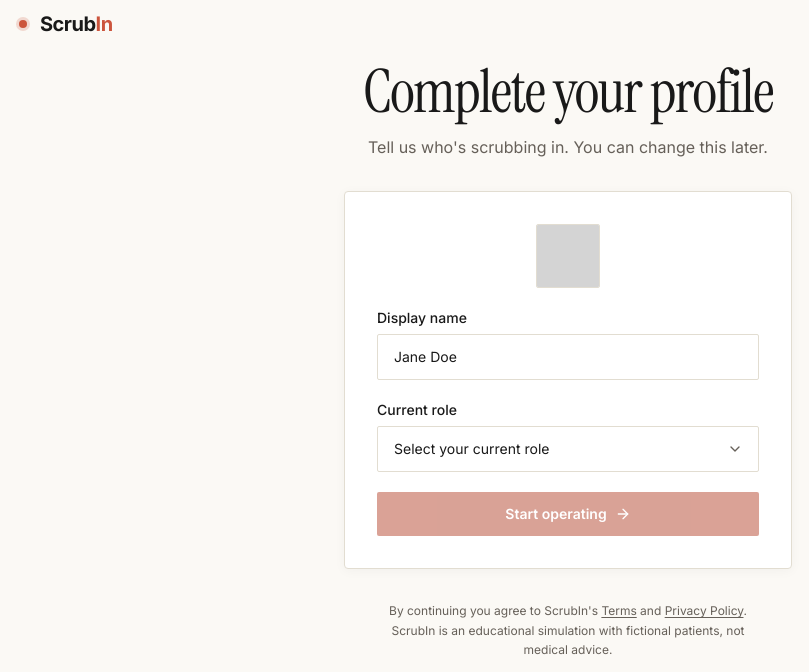
Test: Onboarding › keeps the submit button disabled until a role is selected
Expected: the button "Start operating" is disabled, [377,492,759,536]
Select "Resident" in the dropdown at [568, 449], box [377,426,759,472]
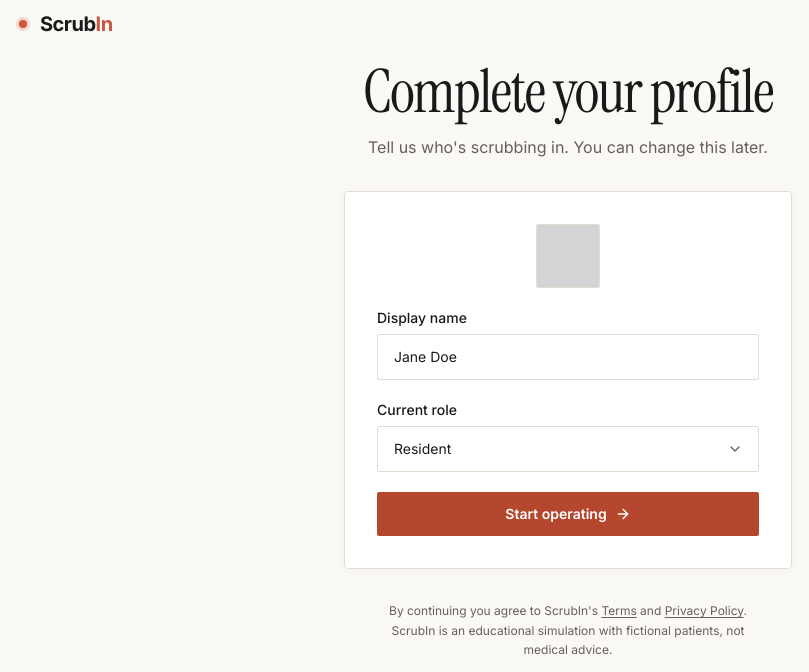
Expected: the button "Start operating" is enabled, [377,492,759,536]
